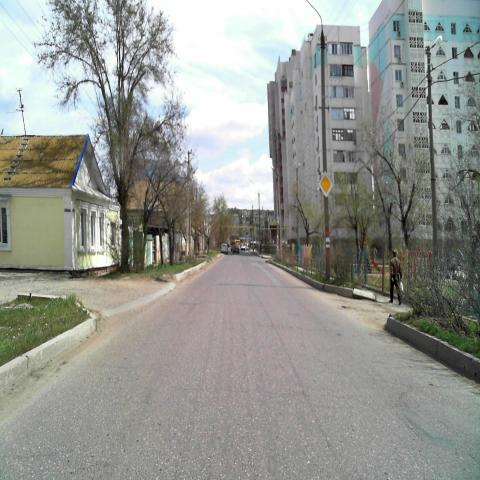2_1: (318, 170, 333, 198)
